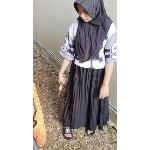Golok: (50, 74, 68, 124)
